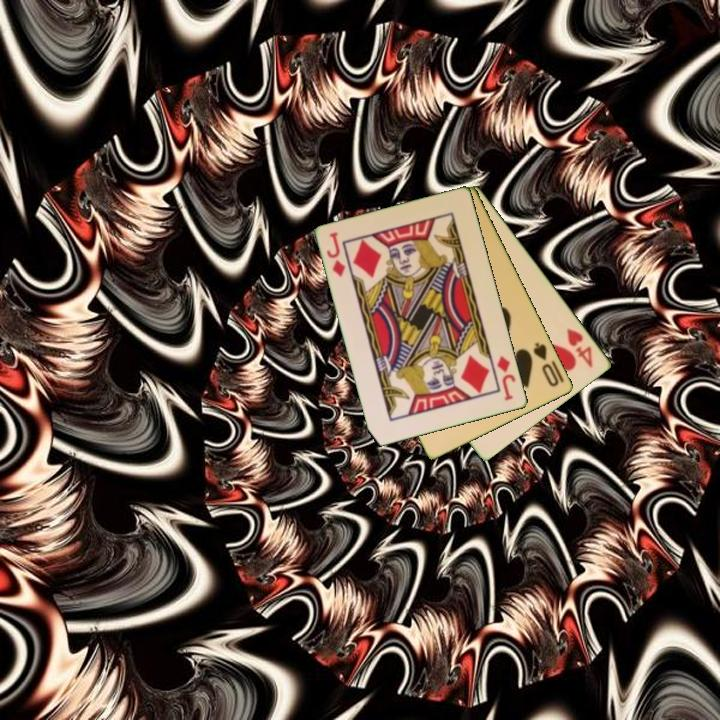10s: (530, 339, 562, 390)
4h: (563, 324, 596, 371)
Jd: (323, 228, 349, 280), (494, 352, 519, 403)
